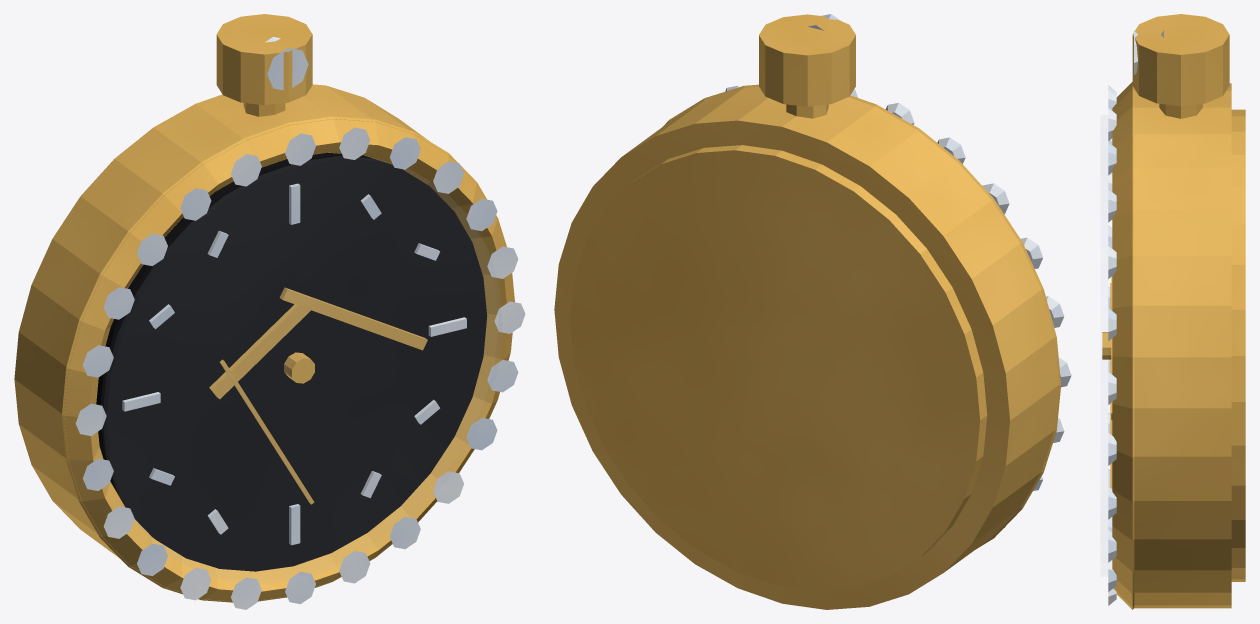
Rendered from mdl_reloj_millonario.fbx.
The picture shows the model from 3 angles, left to right: view 1: azimuth 30°, elevation 25°; view 2: azimuth 150°, elevation 25°; view 3: azimuth 270°, elevation 25°; orthographic projection.
Visible parts, largest first — view 1: esmalte_negro, metal_oro_pulido, gema_diamante; view 2: metal_oro_pulido, gema_diamante; view 3: metal_oro_pulido, gema_diamante.
Part boxes in pixels (x1,y1,x2,y2): esmalte_negro: [96, 152, 487, 571]; metal_oro_pulido: [14, 14, 514, 602]; gema_diamante: [75, 37, 525, 609]; metal_oro_pulido: [554, 14, 1061, 609]; gema_diamante: [725, 14, 1071, 527]; metal_oro_pulido: [1102, 14, 1245, 609]; gema_diamante: [1108, 30, 1163, 605].
Bounding box in the file's own units: 131 × 151 × 36.
